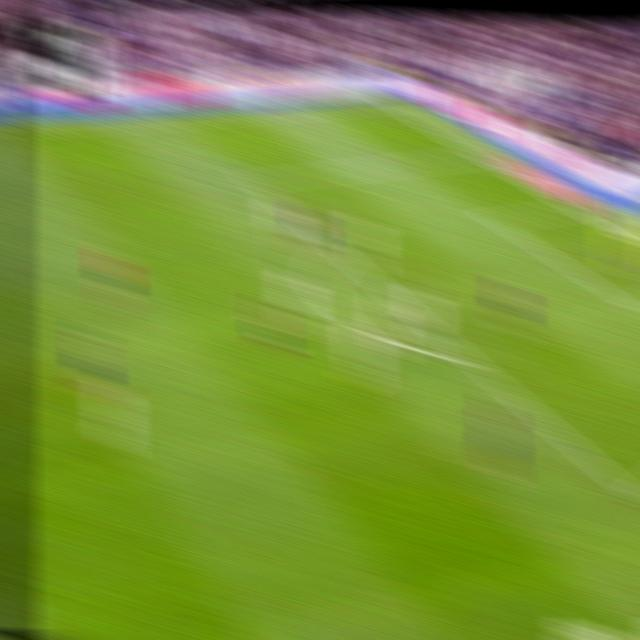bigarea_bottom_inner: (625, 481, 640, 517)
bigarea_top_inner: (242, 169, 267, 192)
bigarea_top_outter: (464, 144, 489, 164)
bottom_arc_area_intersection: (454, 344, 484, 372)
corner: (370, 93, 397, 110)
smallarea_top_inner: (483, 211, 507, 229)
top_arc_area_intersection: (327, 239, 353, 262)
